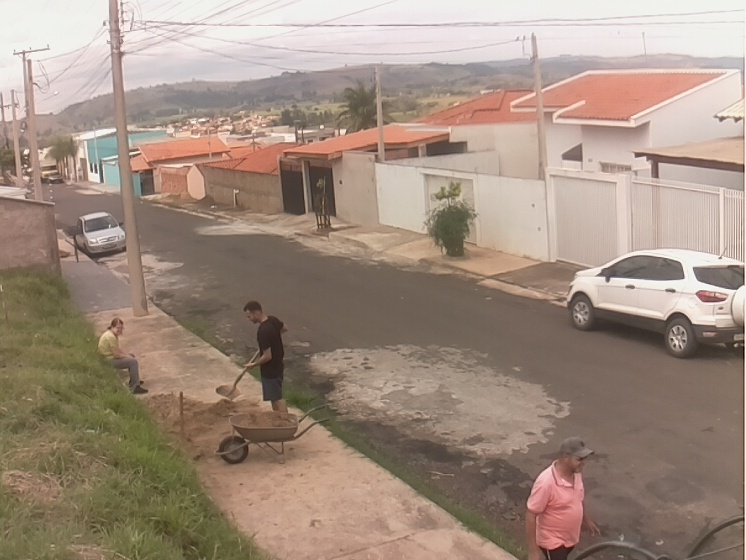person: (525, 436, 601, 560), (242, 299, 291, 415), (97, 317, 149, 394)
